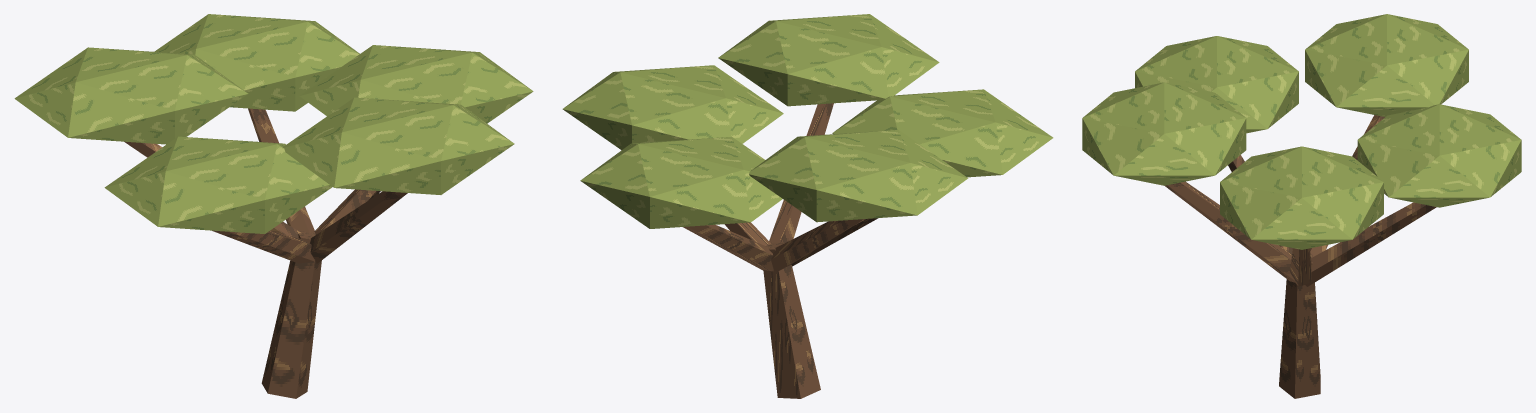
File: arvore-acacia-v02.gltf
3 views of the same model, side by side, from view 1: azimuth 30°, elevation 25°; view 2: azimuth 150°, elevation 25°; view 3: azimuth 270°, elevation 25° (orthographic). The views are drawn at different scales.
Parts seen in each view (by area): view 1: tronco-galhos-copa; view 2: tronco-galhos-copa; view 3: tronco-galhos-copa.
Boxes of the visible parts, box(x1,y1,x2,y2) form: tronco-galhos-copa: box(14, 14, 533, 398); tronco-galhos-copa: box(562, 14, 1053, 398); tronco-galhos-copa: box(1082, 14, 1521, 398).
Bounding box in the file's own units: 4.76 × 3.44 × 4.55.
Materials: 1 (1 with a texture image).
